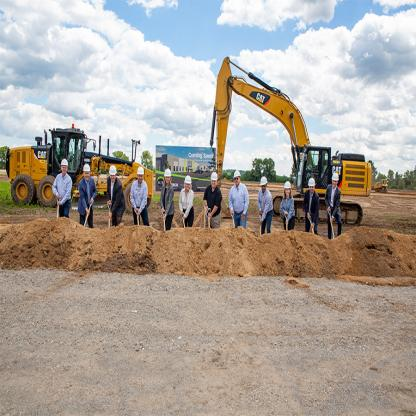bull_dozer/loader/grader: (5, 122, 164, 223)
excavator: (202, 51, 377, 238)
person: (52, 144, 74, 239), (322, 166, 347, 248), (74, 154, 98, 236), (227, 168, 254, 236), (130, 157, 153, 234), (156, 164, 177, 240), (203, 164, 225, 235), (253, 169, 275, 239), (276, 166, 297, 235), (302, 171, 323, 239), (105, 164, 126, 230), (177, 169, 197, 233)
